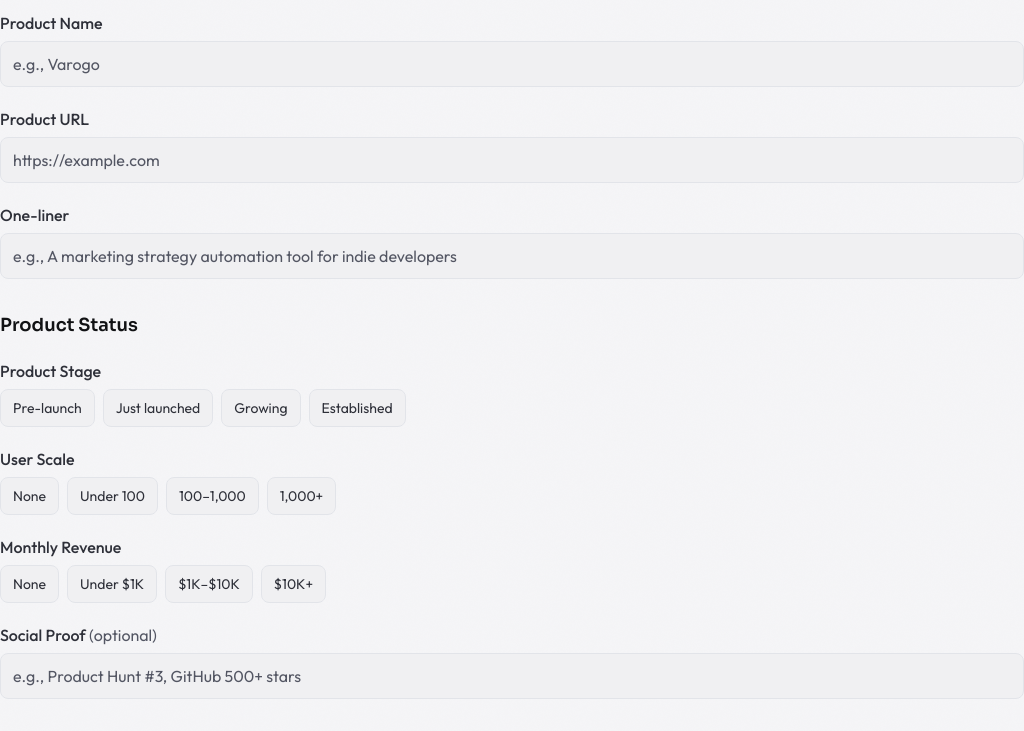
ProductForm › validation › shows url validation error when submitting with empty url
The width and height of the screenshot is (1024, 731).
Type "My Product" into the field labelled "Product Name" at (512, 64), box [0, 41, 1023, 87]
(page scrolled)
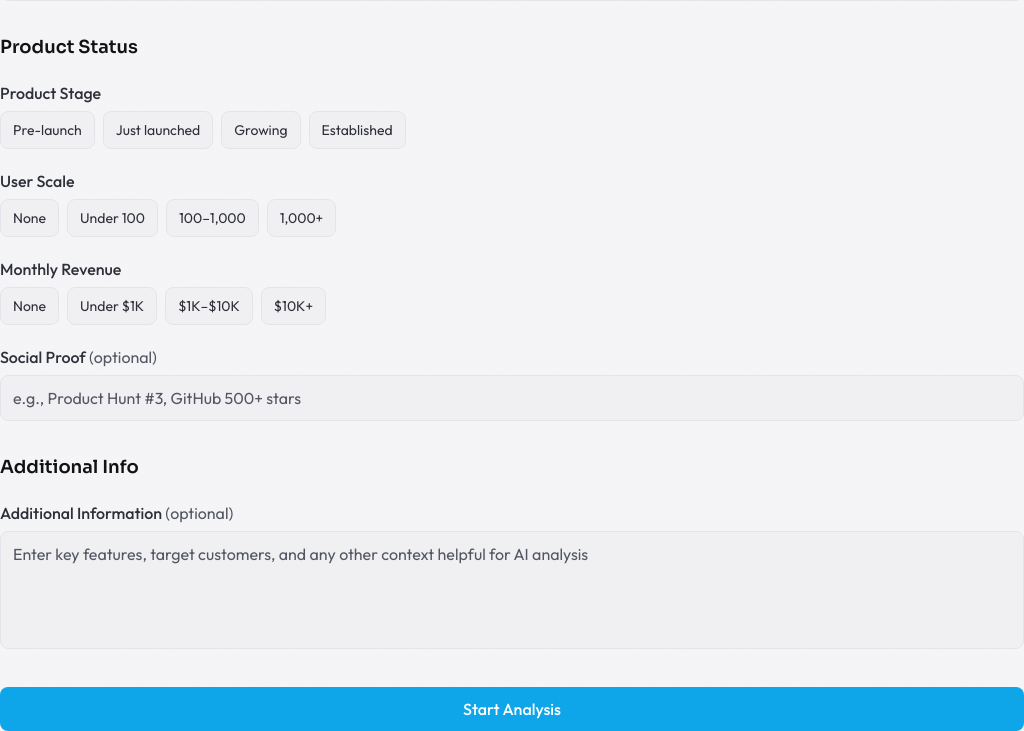
Click the button "Start Analysis" at (512, 709), box [0, 687, 1023, 730]
(page scrolled)
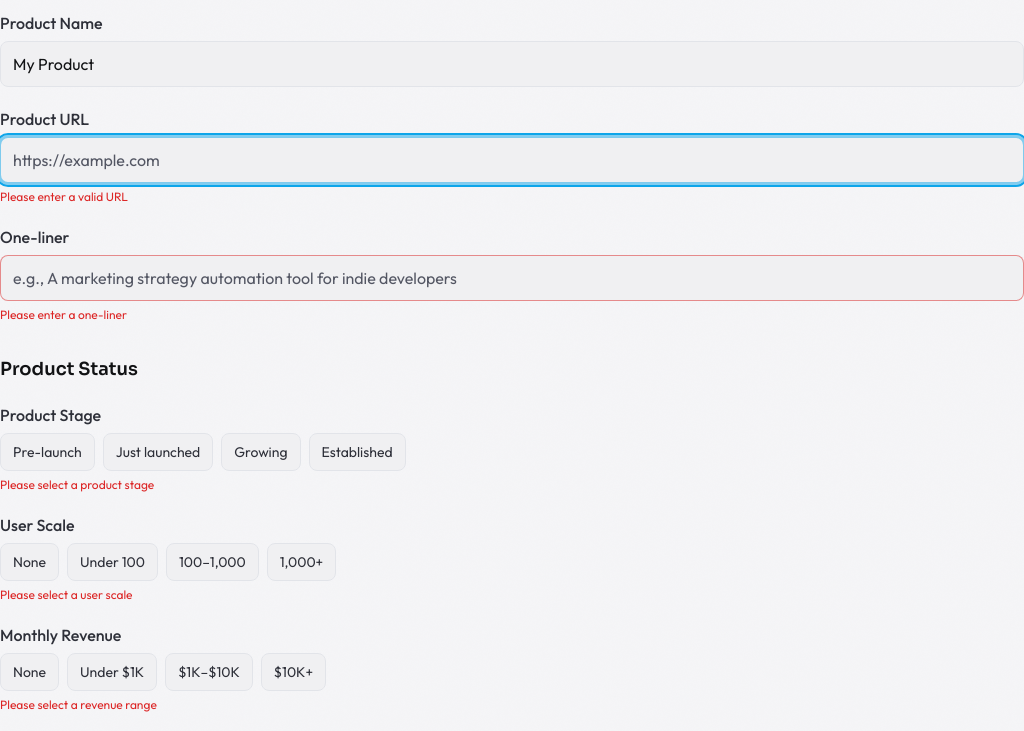
Expected: the text "Please enter a valid URL" is shown, [0, 189, 128, 204]
